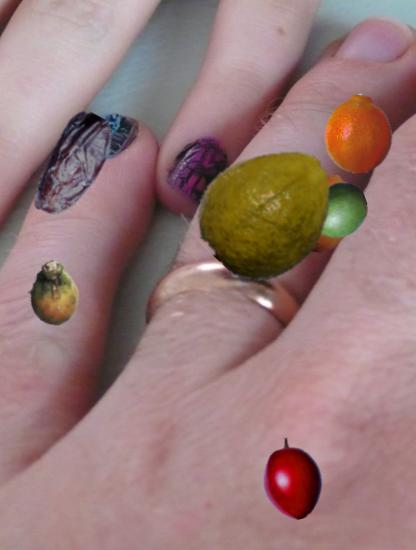Apricot: (276, 170, 360, 254)
Cactus: (24, 263, 87, 326)
Dates: (17, 110, 129, 222)
Guava: (197, 139, 340, 282)
Mango: (307, 180, 369, 242)
Tamarillo: (250, 437, 333, 520)
Tangelo: (319, 94, 398, 173)
